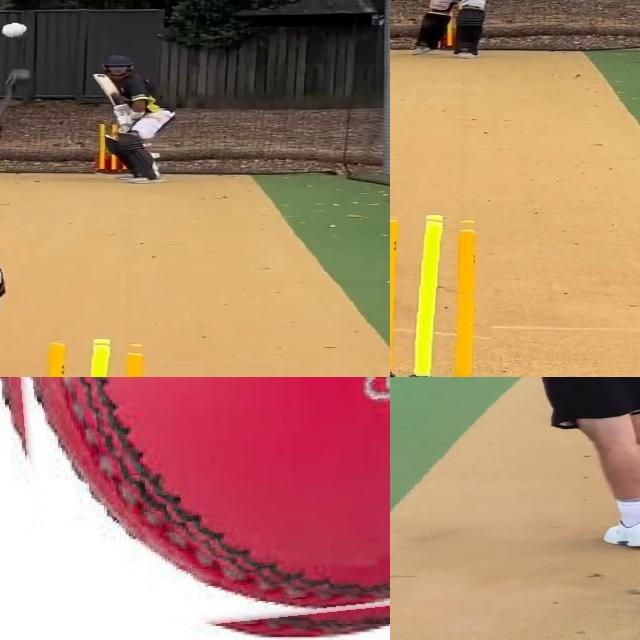Cricket ball: (0, 377, 390, 640), (0, 22, 31, 43)
Stumps: (390, 213, 496, 377), (27, 337, 165, 377)
